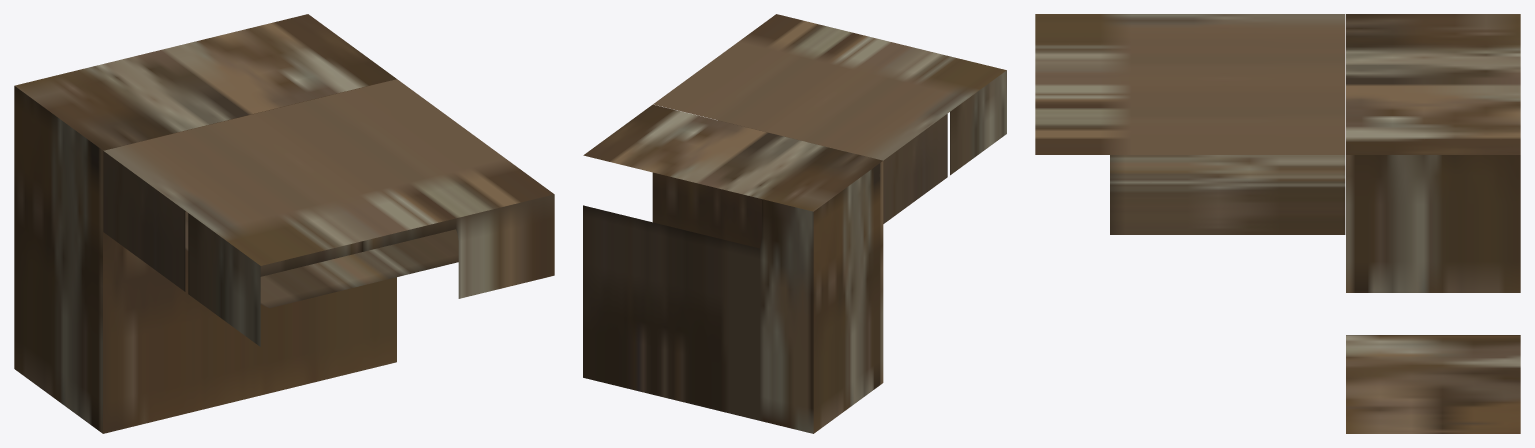
The model's file is section-6.obj.
The picture shows the model from 3 angles, left to right: view 1: azimuth 30°, elevation 25°; view 2: azimuth 150°, elevation 25°; view 3: azimuth 270°, elevation 25°; orthographic projection. The views are drawn at different scales.
Size of the model in its own units: 0.828 by 0.763 by 1.2.
